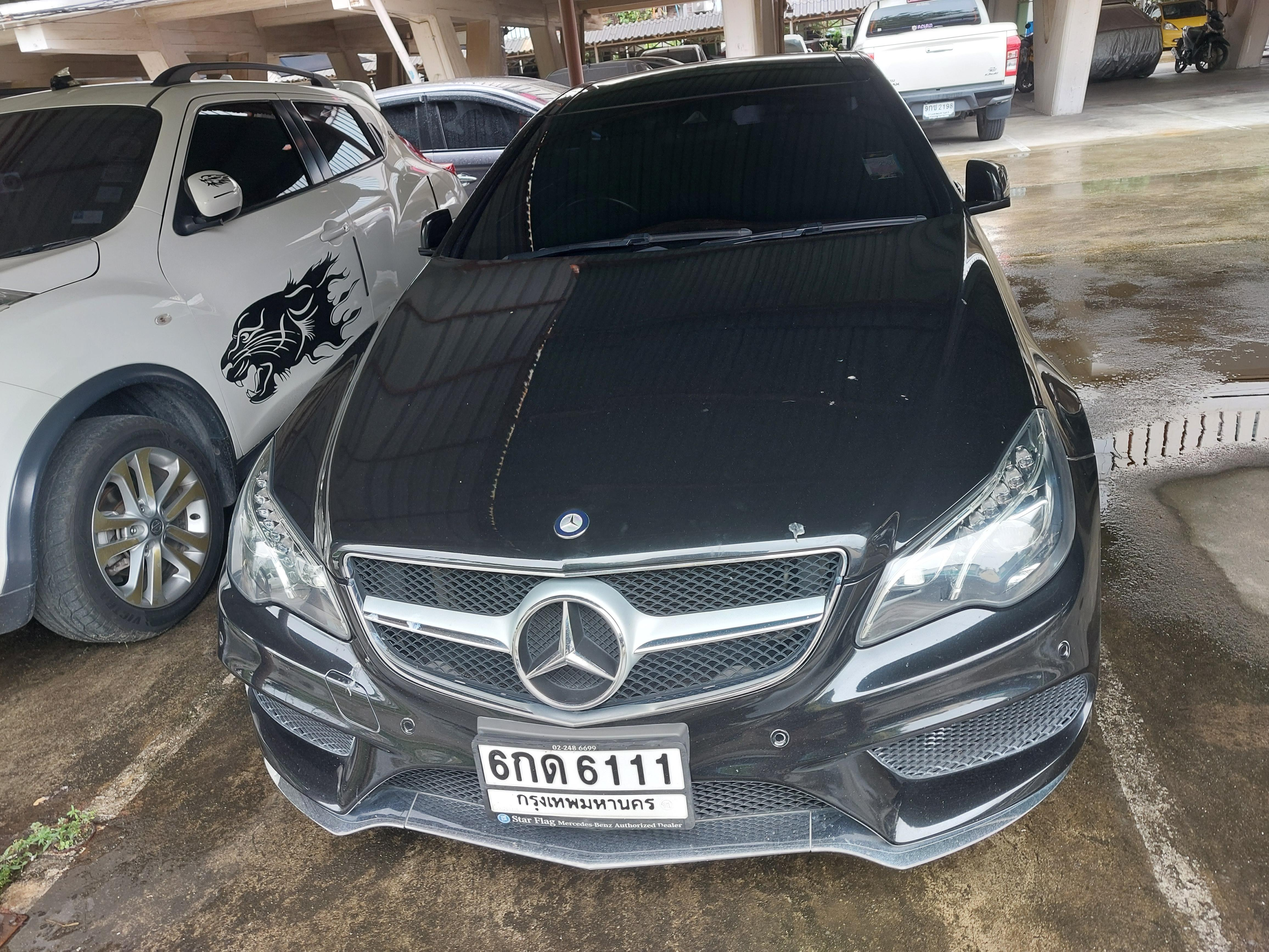license-plate: (474, 732, 698, 835)
